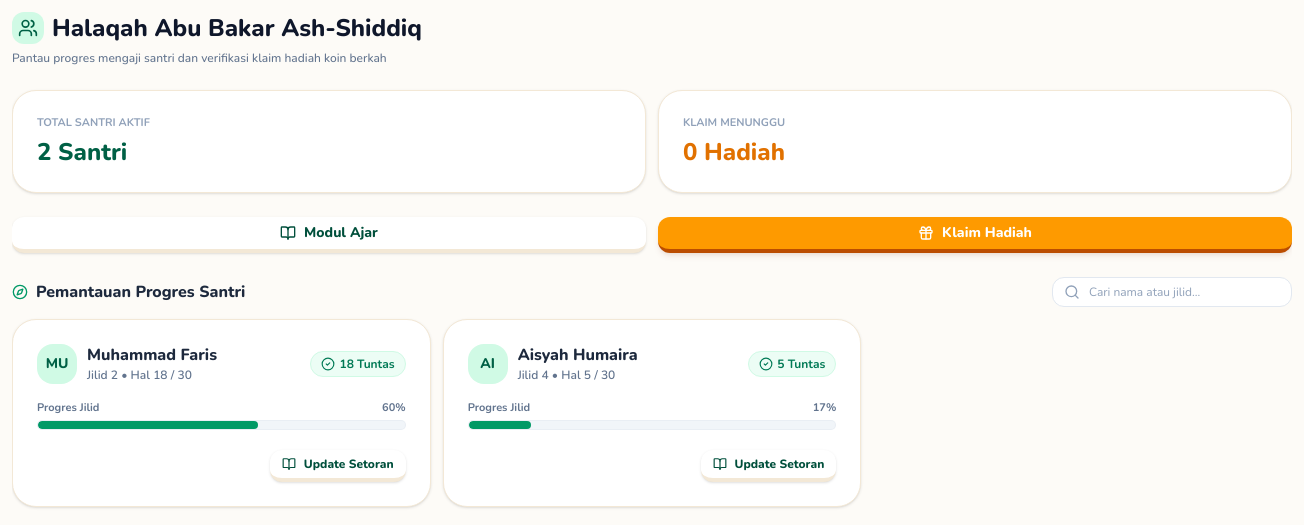
DashboardPage Component › filters halaqah santri list based on search query
Expected: the heading "Muhammad Faris" is shown, top-left (87, 344), bottom-right (217, 364)
Expected: the heading "Aisyah Humaira" is shown, top-left (518, 344), bottom-right (638, 364)
Type "Aisyah" into the field with placeholder "Cari nama atau jilid..." at {"x": 1172, "y": 292}, box top-left (1052, 276), bottom-right (1292, 306)
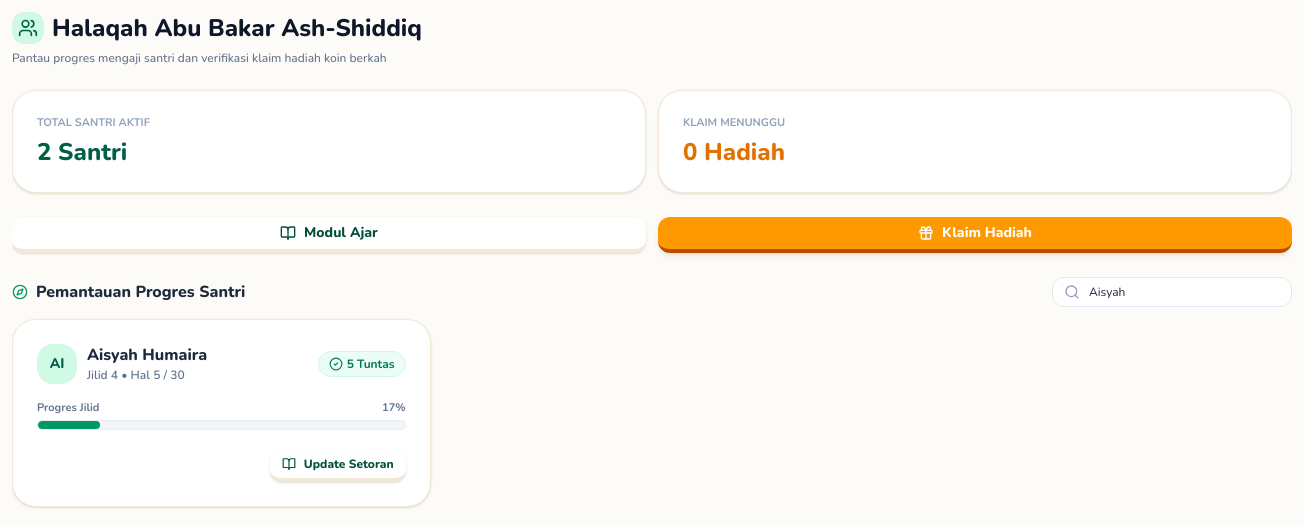
Expected: the heading "Aisyah Humaira" is shown, top-left (87, 344), bottom-right (207, 364)
Expected: the heading "Muhammad Faris" is gone
Replace the text in the field with placeholder "Cari nama atau jilid..." with "ZzzUnknown" at {"x": 1172, "y": 292}, box top-left (1052, 276), bottom-right (1292, 306)
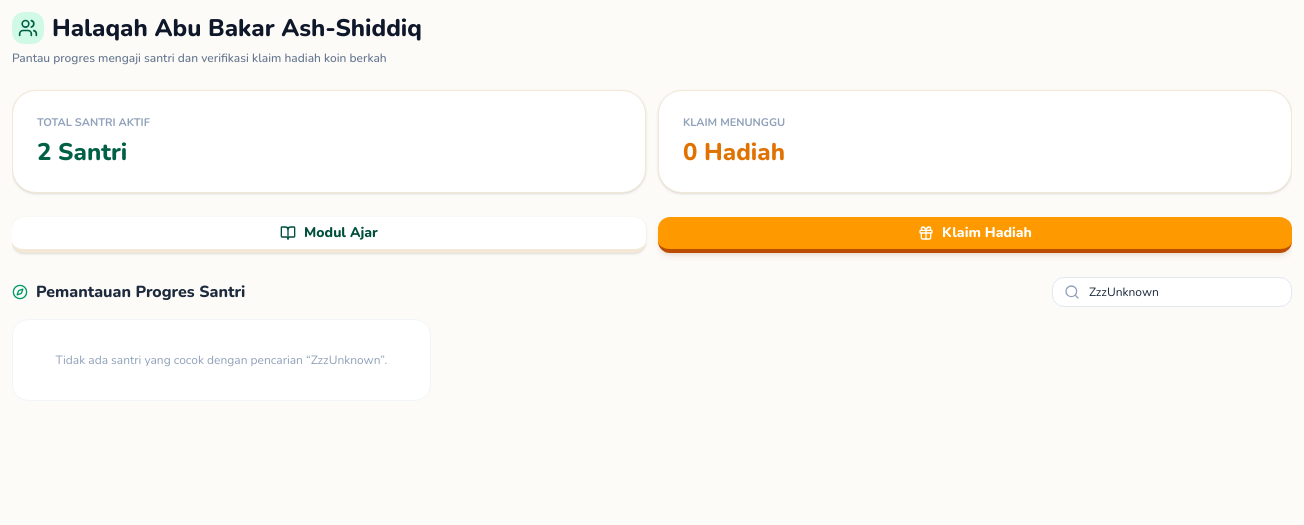
Expected: the text "Tidak ada santri yang cocok dengan pencarian “ZzzUnknown”." is shown, top-left (12, 318), bottom-right (431, 400)
